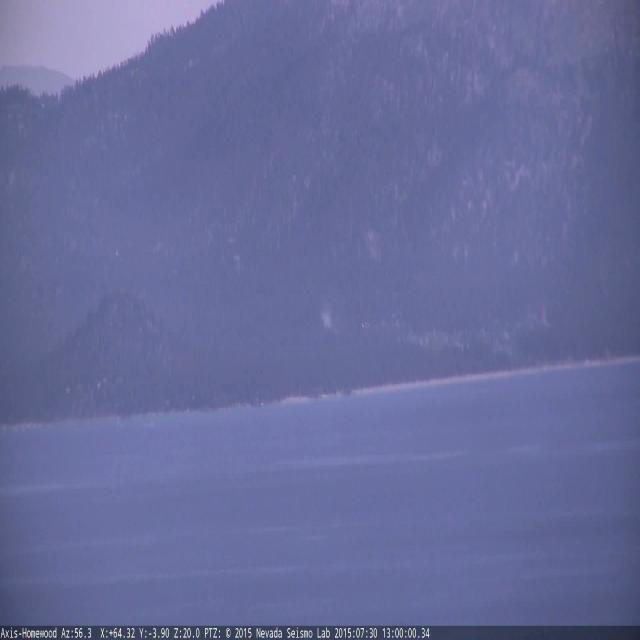smoke: (321, 310, 334, 330)
